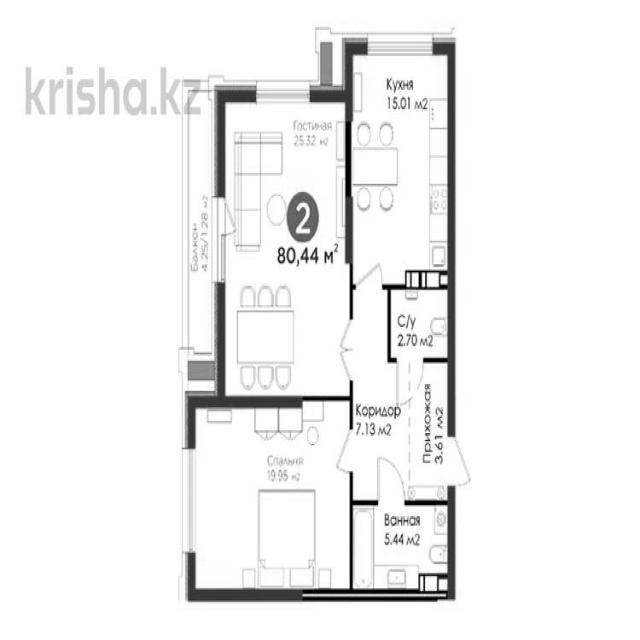balcony: (184, 86, 215, 390)
bathroom: (353, 505, 448, 595), (386, 294, 448, 357)
hallway: (352, 368, 448, 499)
kitchen: (353, 55, 451, 285)
living_room: (217, 95, 347, 393), (190, 401, 350, 594)
